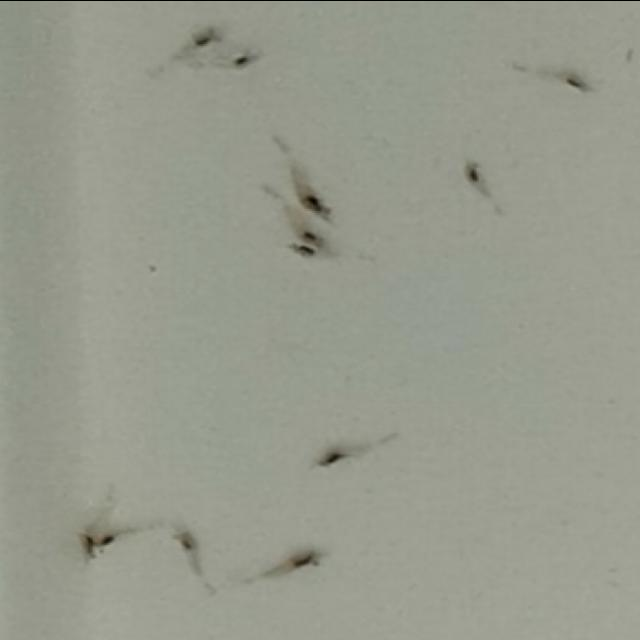shrimp-seed: (284, 541, 333, 575), (557, 67, 604, 101), (310, 442, 355, 476), (168, 521, 208, 558), (300, 188, 338, 218), (188, 23, 230, 50), (229, 44, 265, 72), (460, 157, 488, 190), (80, 531, 108, 560), (283, 239, 319, 260), (299, 226, 333, 248), (95, 530, 128, 552)
